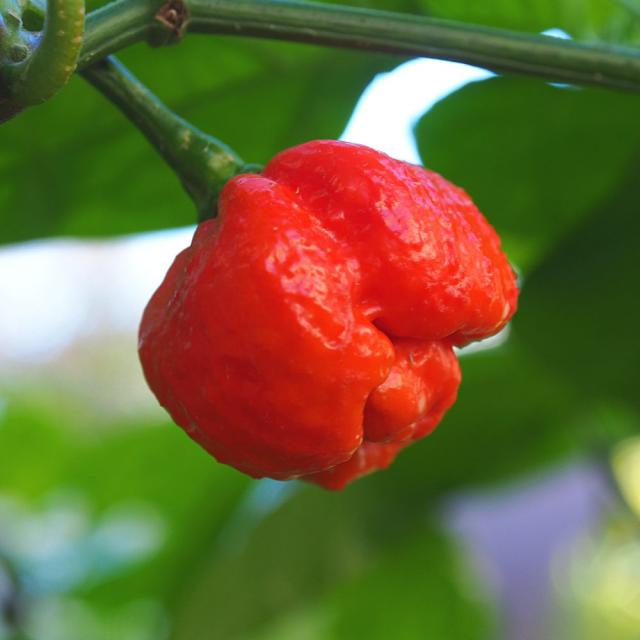Chilli Pepper: (90, 67, 547, 498)
